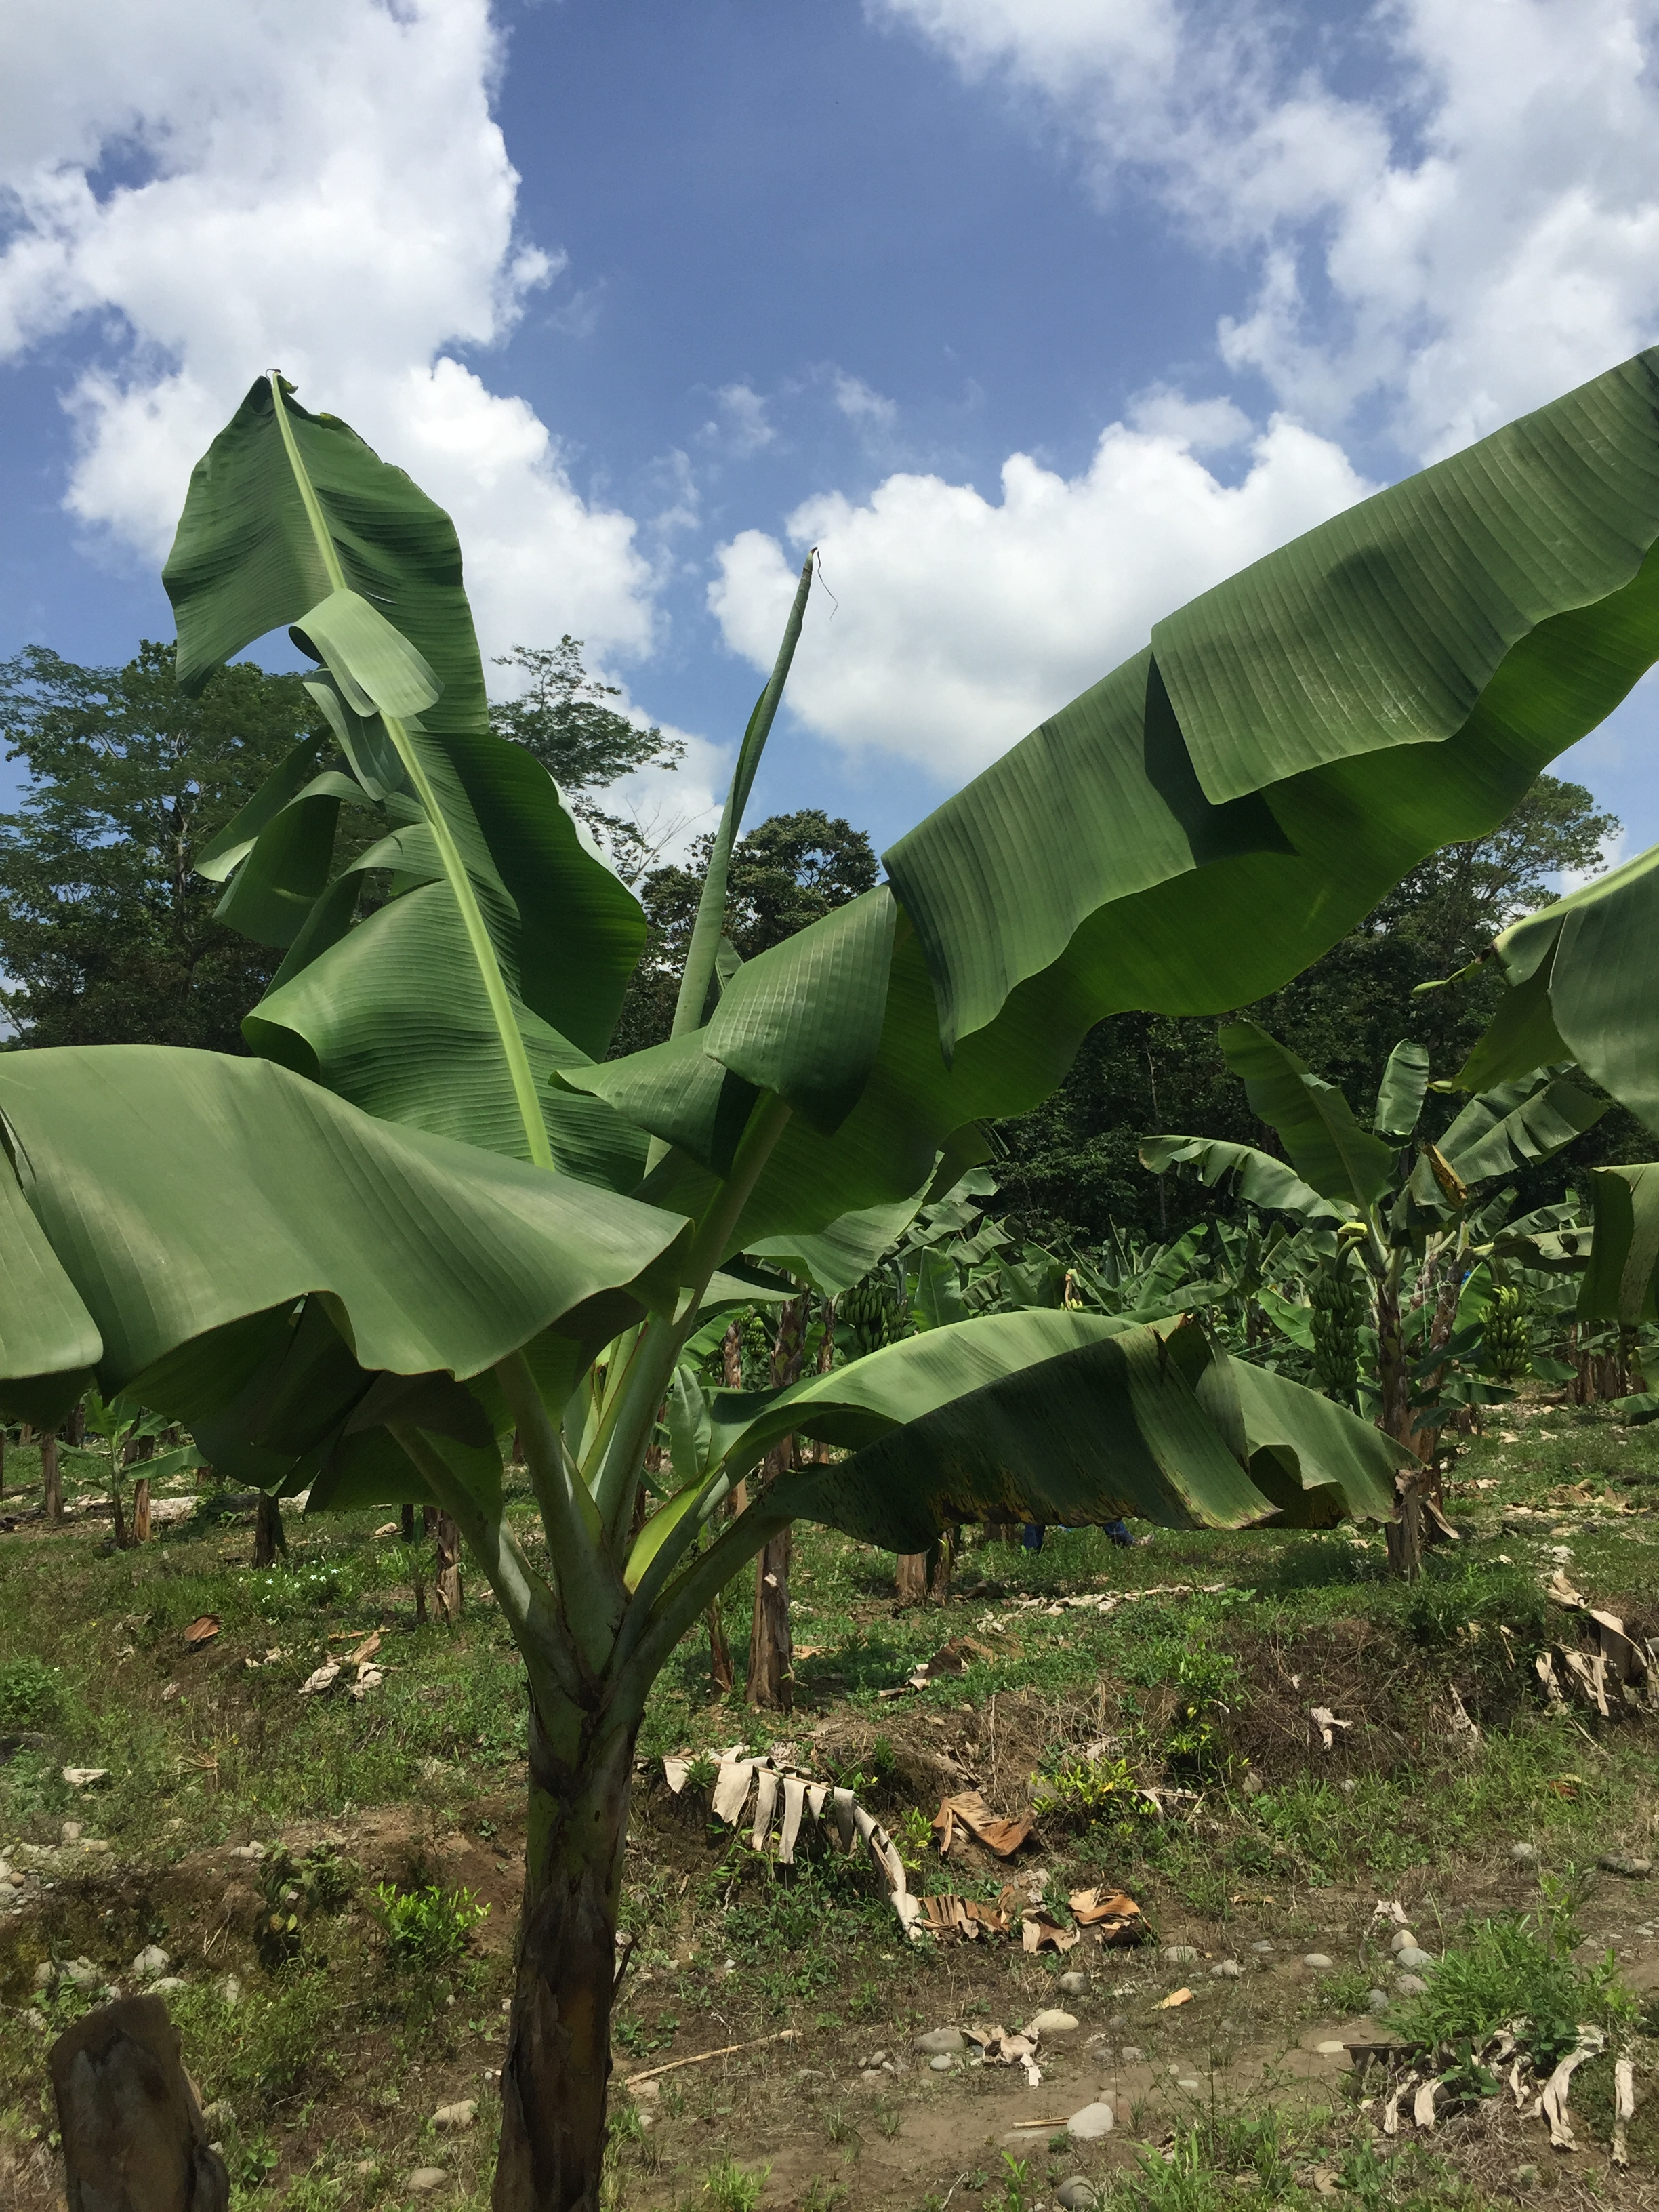candleleafs: (671, 547, 823, 1040)
